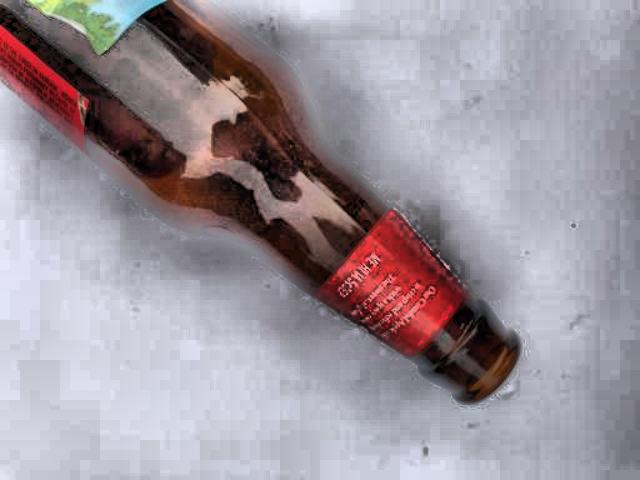Bottles: (0, 0, 545, 431)
